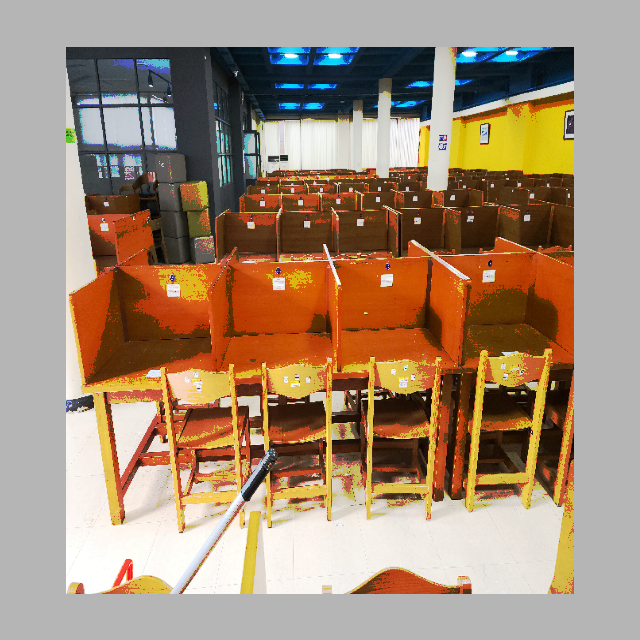empty: (76, 254, 214, 460), (217, 259, 340, 462), (344, 254, 457, 439)
